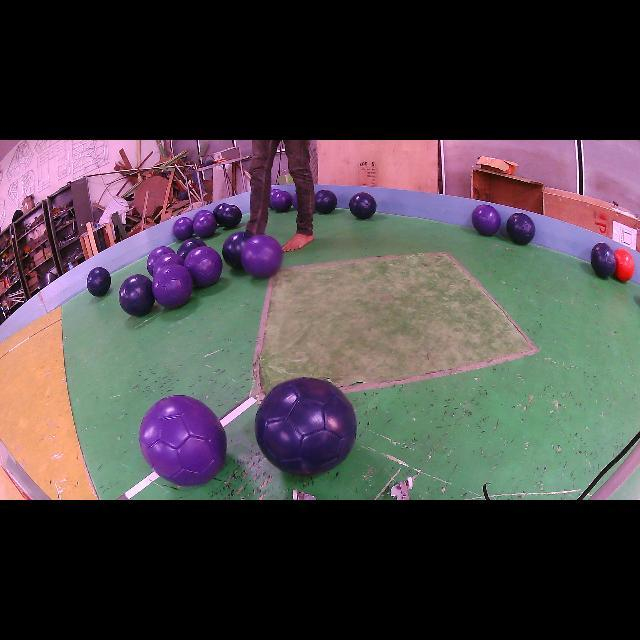B: (255, 378, 356, 476), (119, 274, 155, 316), (222, 231, 252, 269), (506, 212, 535, 245), (591, 242, 616, 278), (349, 192, 376, 219), (86, 268, 111, 296), (178, 238, 206, 259), (315, 190, 338, 214), (220, 205, 241, 228), (212, 204, 229, 224)
P: (140, 395, 226, 486), (152, 264, 194, 309), (241, 235, 282, 278), (184, 246, 222, 288), (471, 205, 501, 236), (146, 246, 175, 275), (152, 254, 184, 276), (192, 214, 218, 238), (172, 218, 194, 240), (270, 190, 292, 212), (192, 210, 212, 221)
R: (614, 249, 635, 281)
